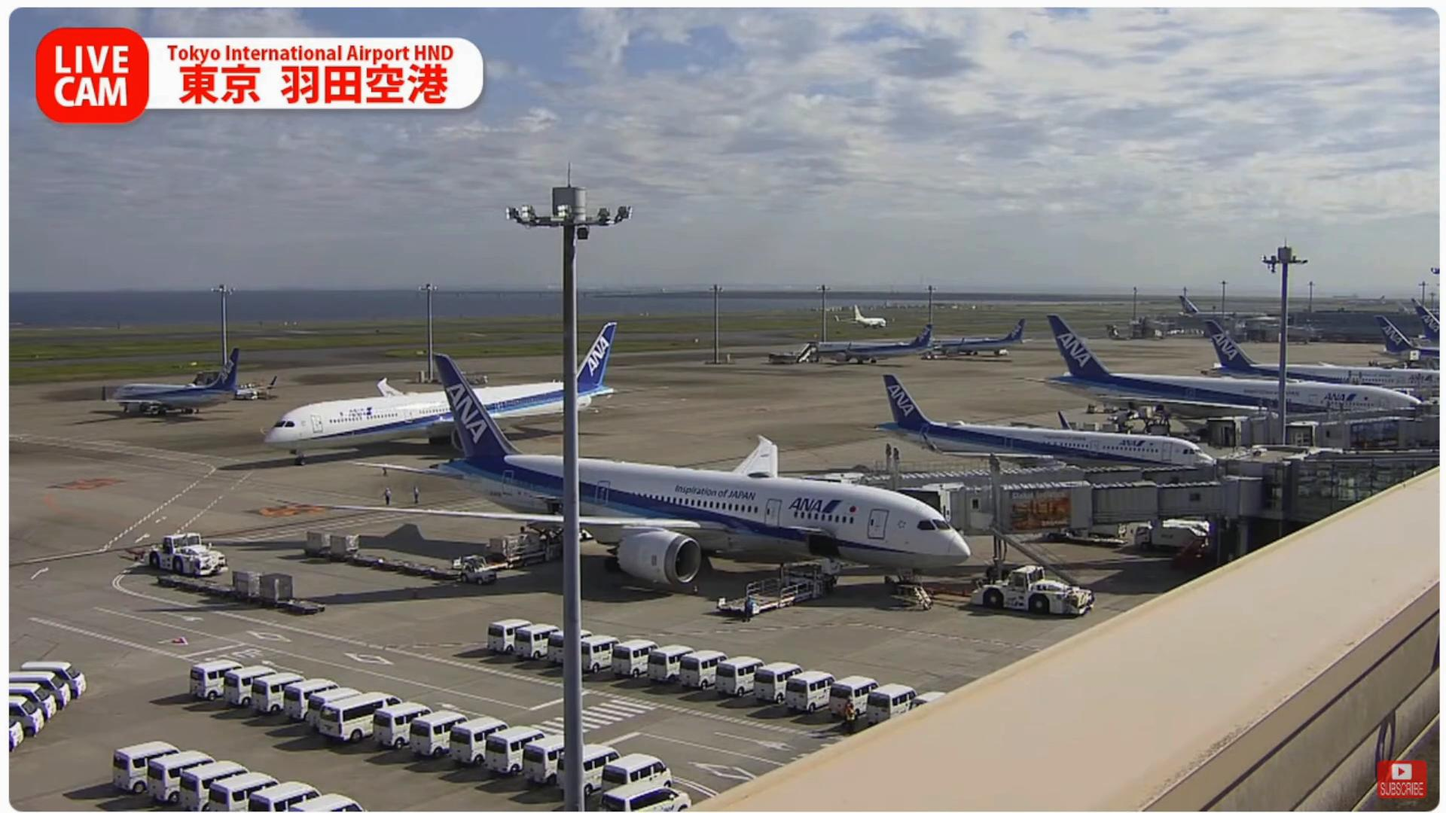APS: (969, 564, 1106, 619), (114, 529, 231, 577)
Aerobridge: (899, 476, 1264, 540), (843, 457, 1217, 496)
Airplane: (330, 354, 973, 599)
Dolly: (300, 524, 462, 582), (156, 566, 329, 618)
JCPL: (699, 546, 848, 617), (449, 521, 563, 577)
Tractor: (456, 553, 493, 584)
Window: (1290, 456, 1440, 523)
